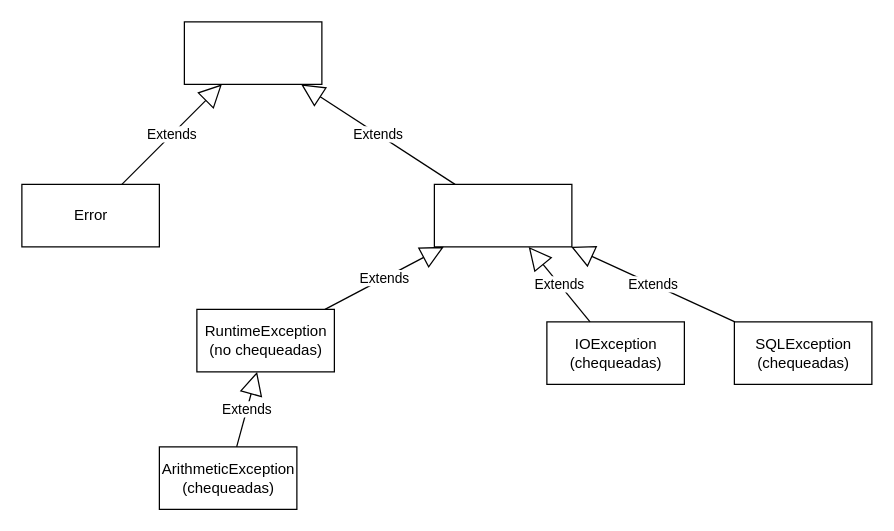
The diagram is 894 pixels wide and 531 high, and some of its shapes have lost their labels. Here are the shapes that lost their labels. From the top down, the centre of each, then its label:
the point at 252,52: Throwable
the point at 502,215: Exception (chequeadas)
